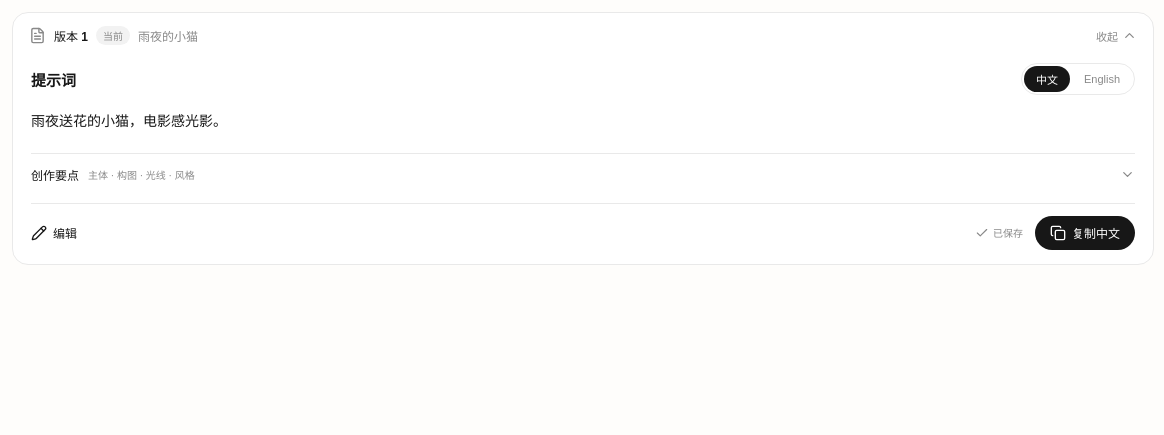
Test: version-specific creation result › preserves a failed save draft and hides stale saved indicators
The width and height of the screenshot is (1164, 435).
Click the button "编辑": (54, 233) [31,216,77,250]
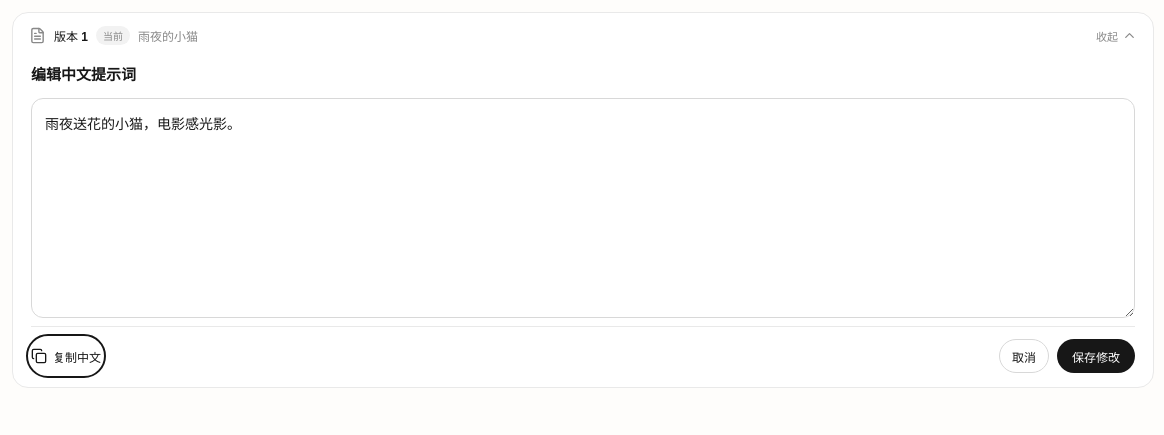
Replace the text in the text box with "保留的修改": (583, 208) [31,98,1135,318]
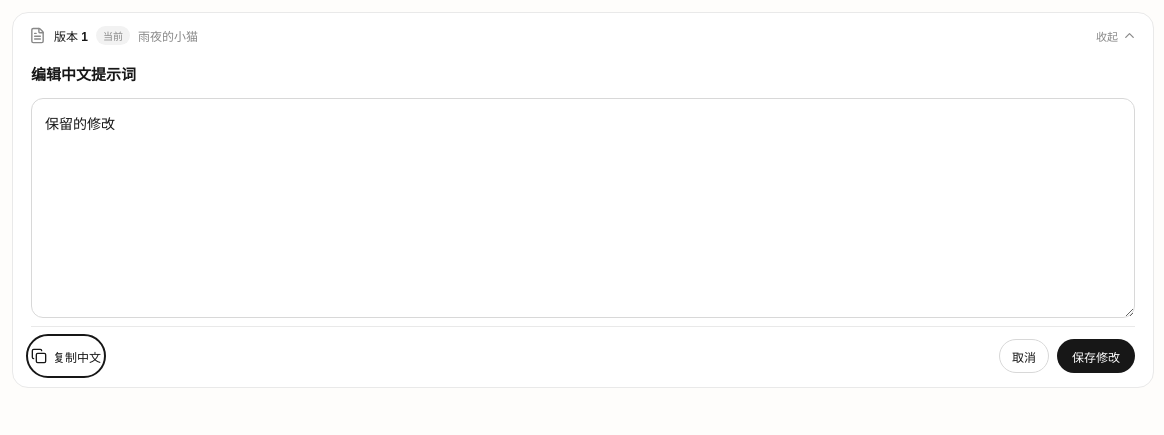
Click the button "保存修改": (1096, 356) [1057,339,1135,373]
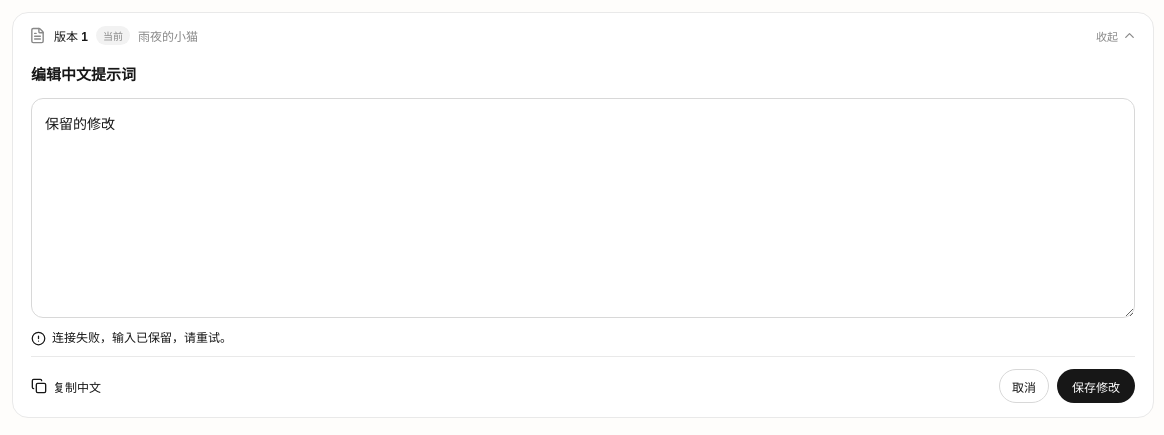
Check: the text "已保存" is not shown
Check: the message shows "连接失败", box [52,331,232,345]
